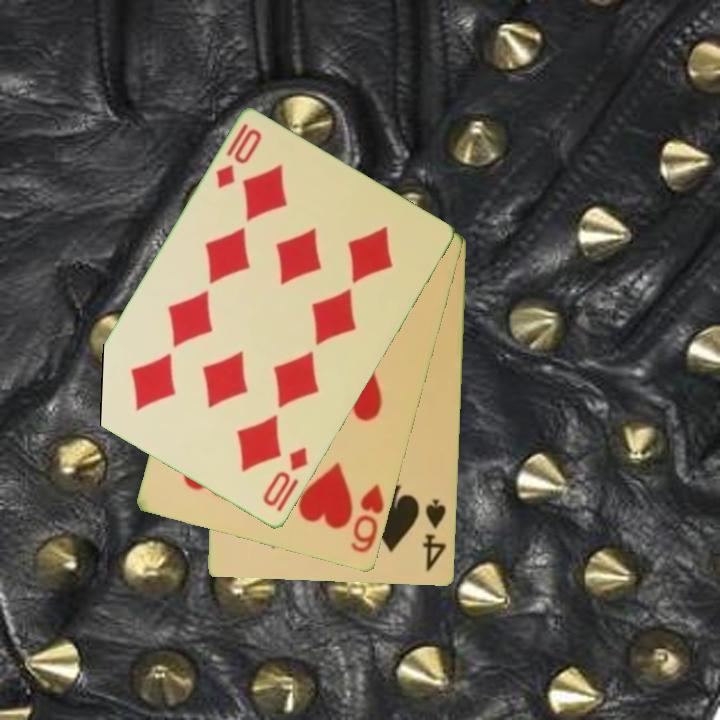10d: (212, 120, 265, 192), (259, 444, 312, 510)
4s: (420, 496, 450, 575)
6h: (347, 481, 387, 556)
